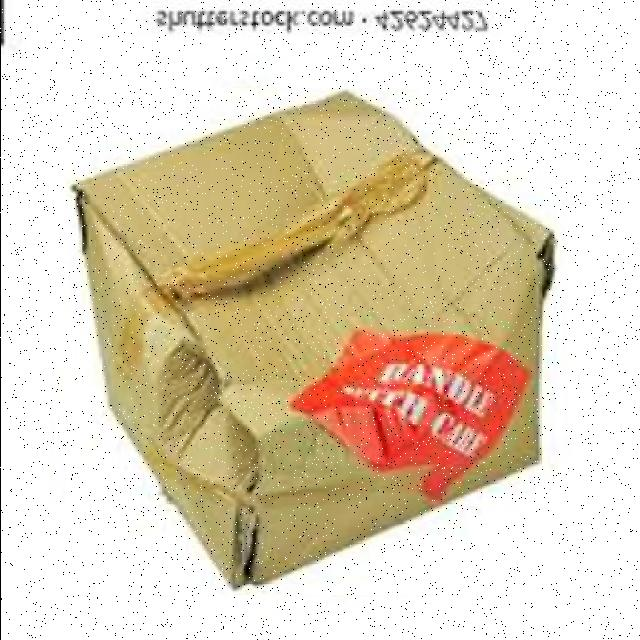defect: (64, 88, 564, 595)
